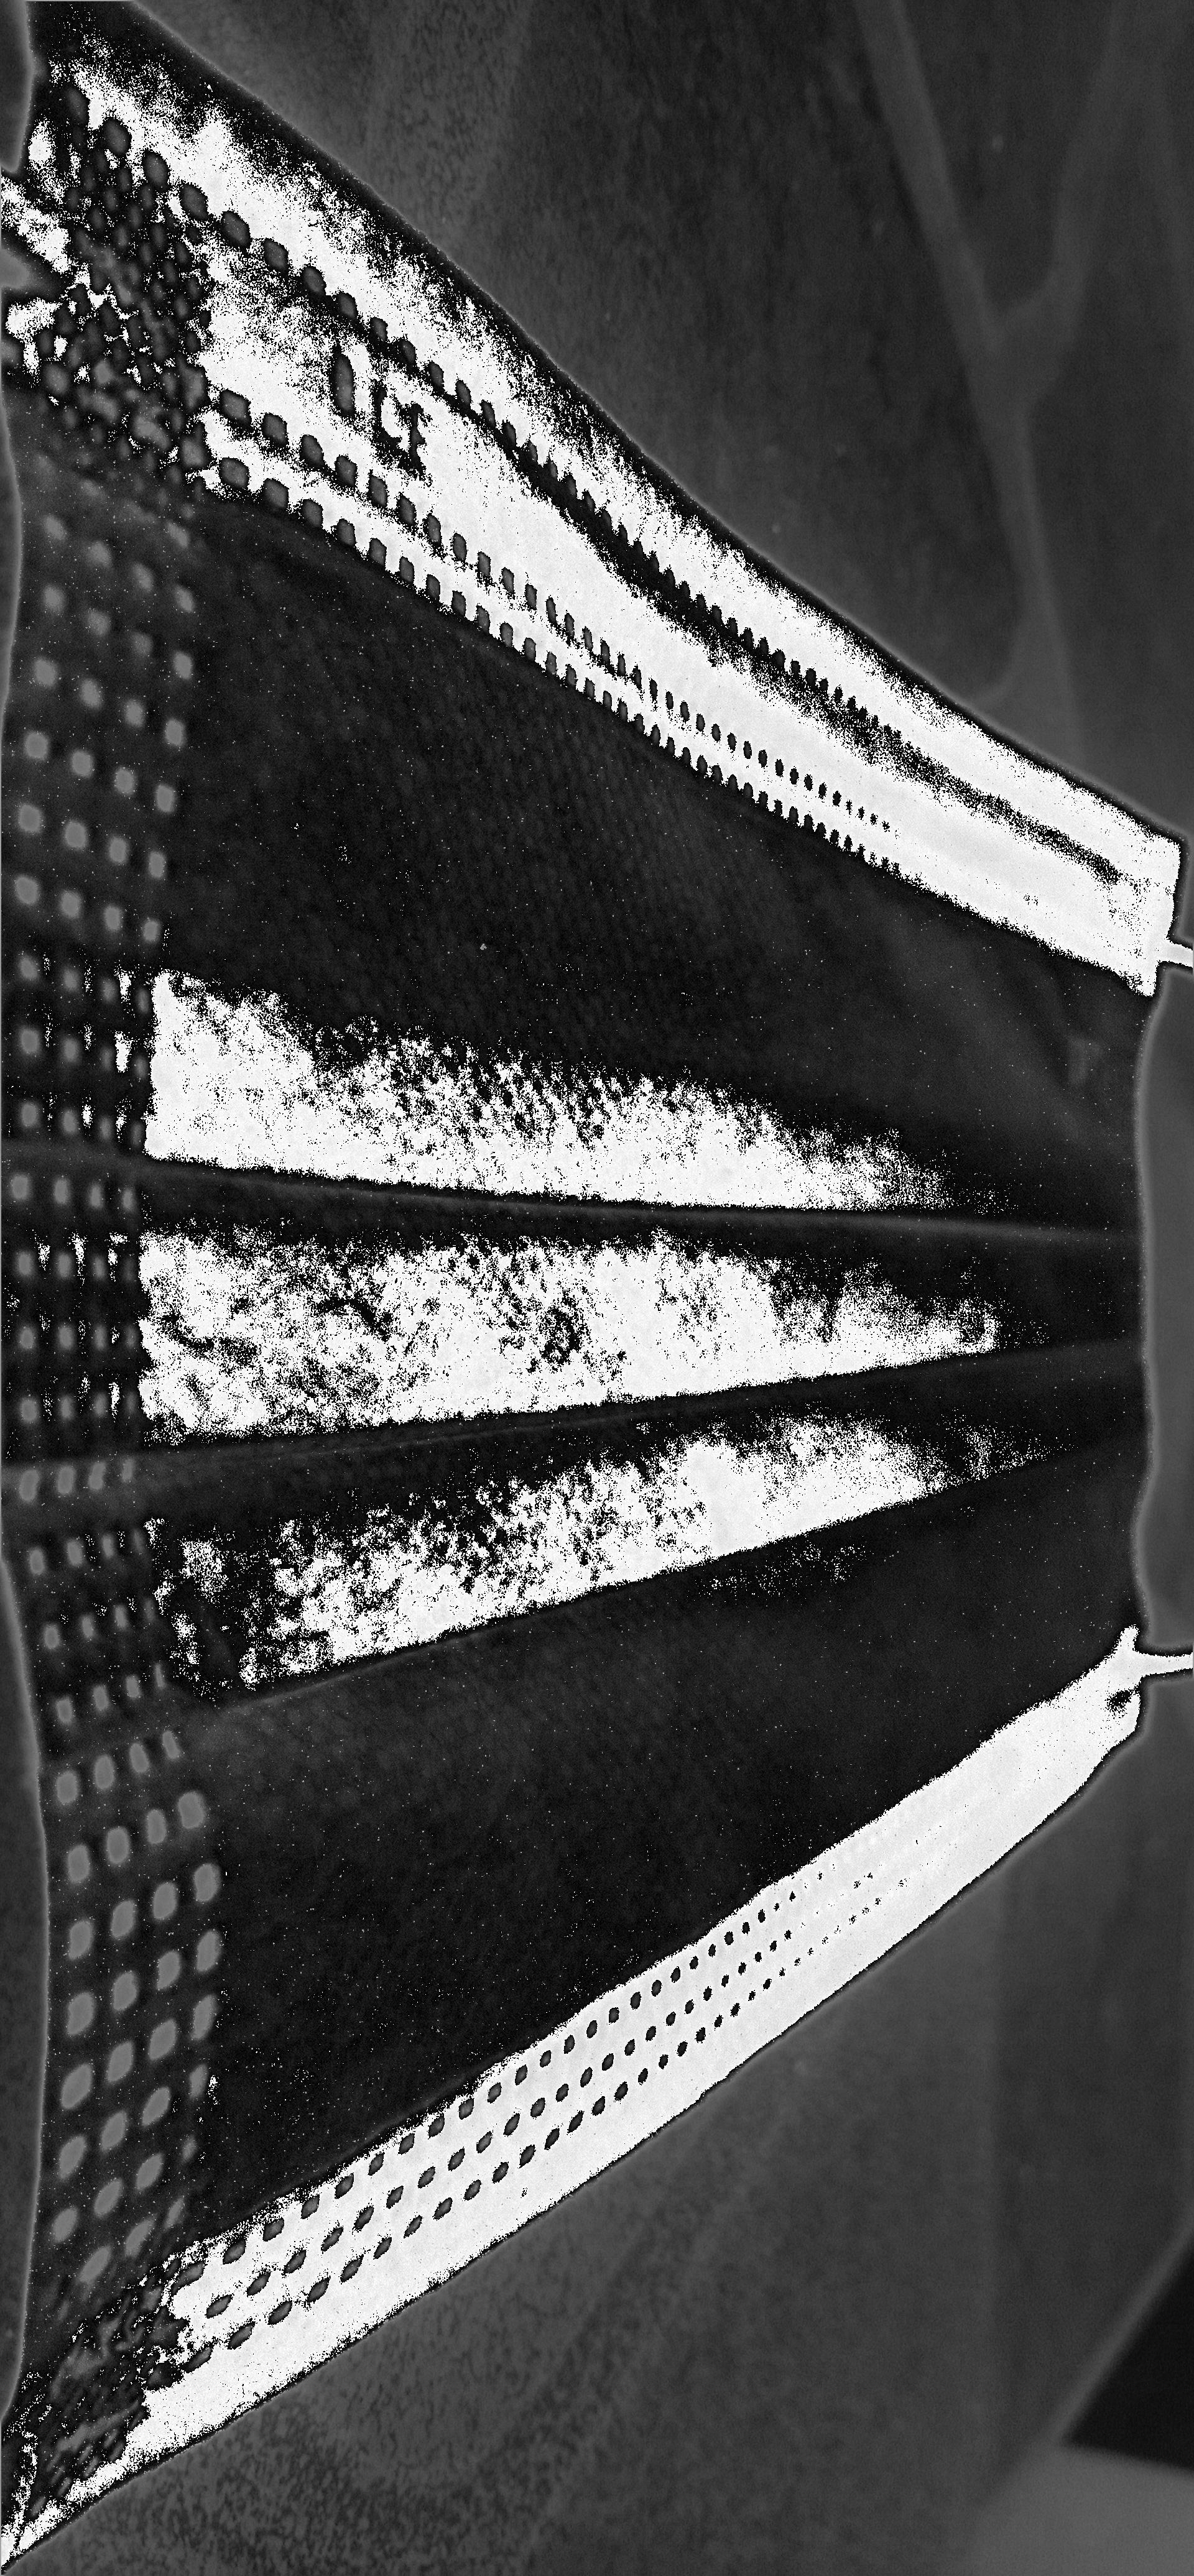High GSM: (222, 861, 1031, 1694)
